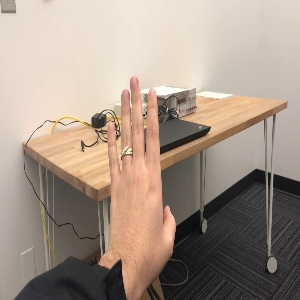hand: (108, 76, 176, 252)
